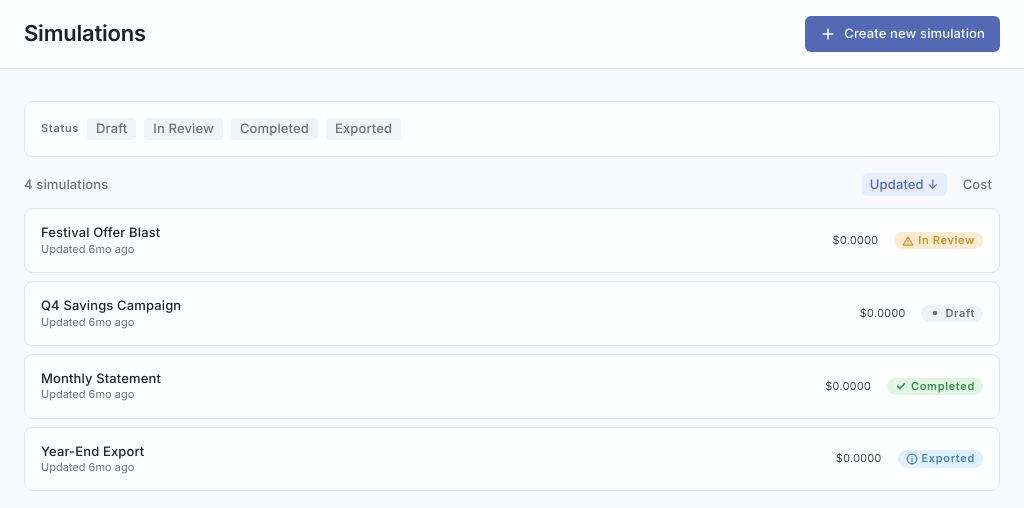
HomePage › renders the filtered empty state and resets state when Clear is clicked
The width and height of the screenshot is (1024, 508).
expect the text "Q4 Savings Campaign" is shown: met, box 41,297 -> 181,313
# Toggle a filter that yields zero rows.
Click the button with test id "filter-status-draft": x=112, y=129 87,118 -> 136,140
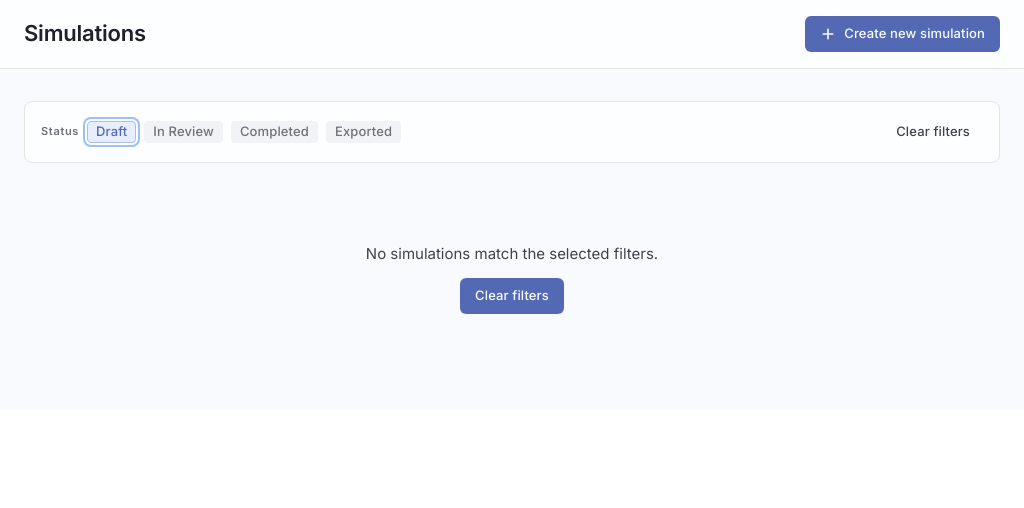
expect the element with test id "filtered-empty-state" is shown: met, box 366,244 -> 658,314
expect the text "No simulations match the selected filters." is shown: met, box 366,243 -> 658,266
Click the button with test id "clear-filters": x=512, y=296 460,278 -> 564,314
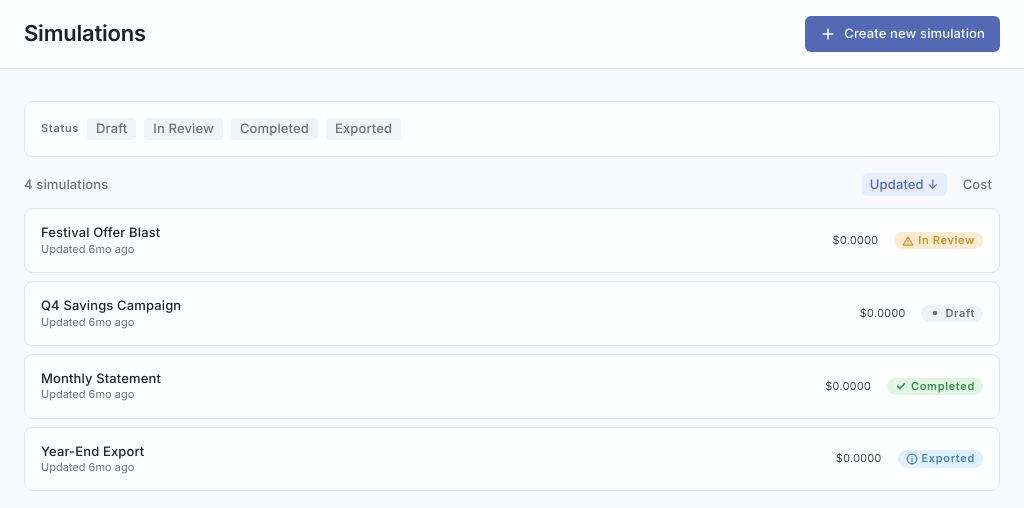
expect the text "Q4 Savings Campaign" is shown: met, box 41,297 -> 181,313
expect the element with test id "filtered-empty-state" is gone: met
